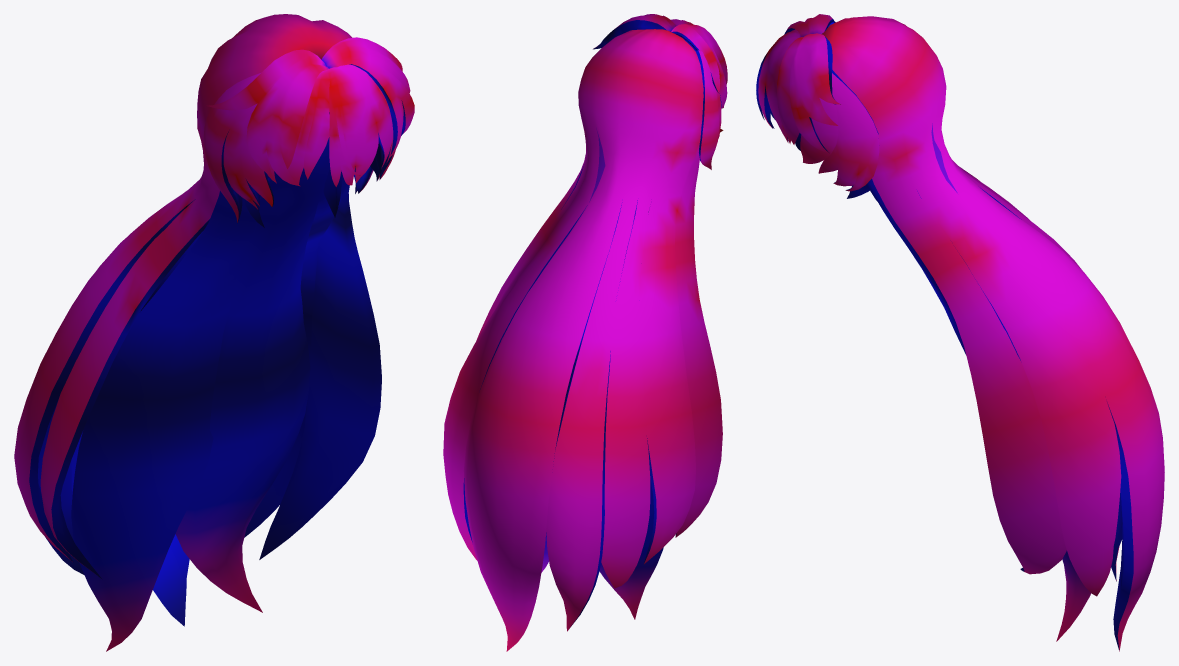
The picture shows the model from 3 angles, left to right: view 1: azimuth 30°, elevation 25°; view 2: azimuth 150°, elevation 25°; view 3: azimuth 270°, elevation 25°; orthographic projection. The views are drawn at different scales.
Visible parts, largest first — view 1: FogGirl_Hair001; view 2: FogGirl_Hair001; view 3: FogGirl_Hair001.
Part boxes in pixels (left/top/right/bottom): FogGirl_Hair001: left=14, top=14, right=414, bottom=651; FogGirl_Hair001: left=443, top=14, right=727, bottom=651; FogGirl_Hair001: left=756, top=14, right=1164, bottom=651.
Size of the model in its own units: 38.12 by 48.4 by 80.04.
